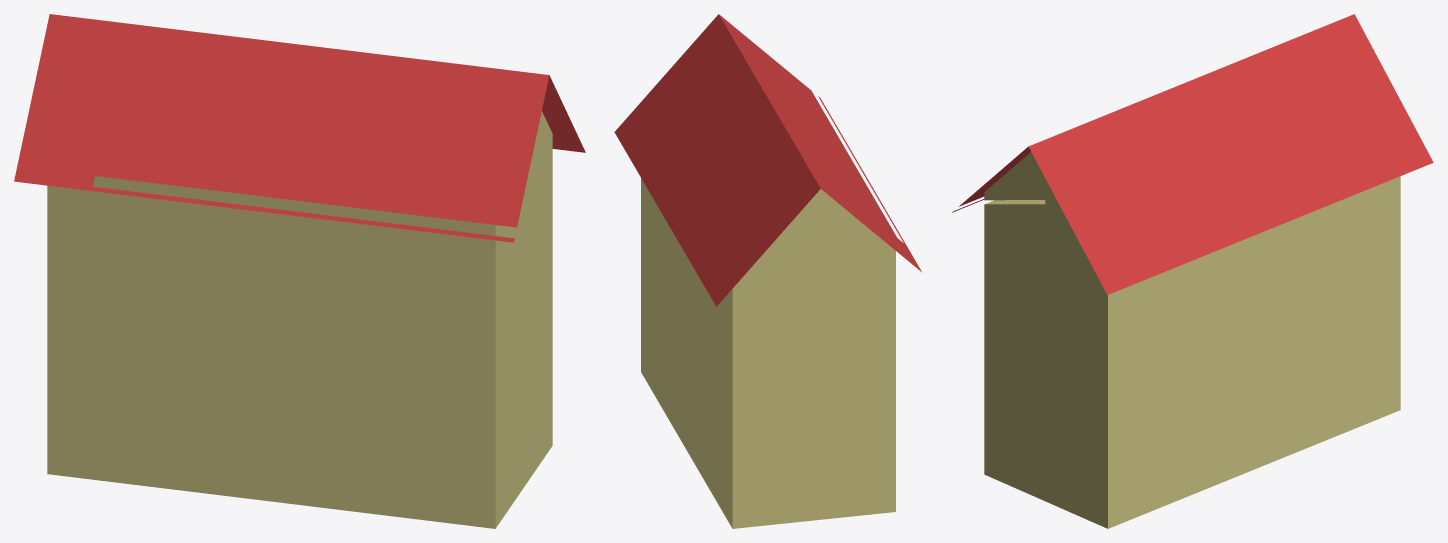
The picture shows the model from 3 angles, left to right: view 1: azimuth 30°, elevation 25°; view 2: azimuth 150°, elevation 25°; view 3: azimuth 270°, elevation 25°; orthographic projection. The views are drawn at different scales.
Size of the model in its own units: 10.17 by 10.31 by 8.53.
